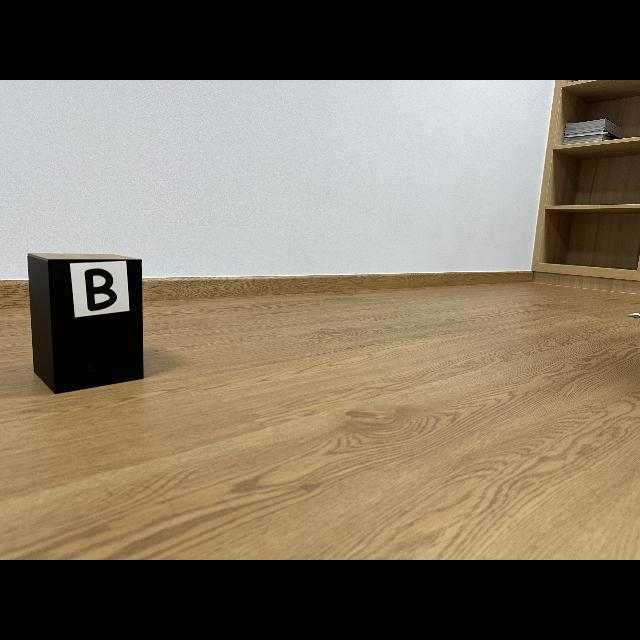B: (85, 269, 118, 311)
